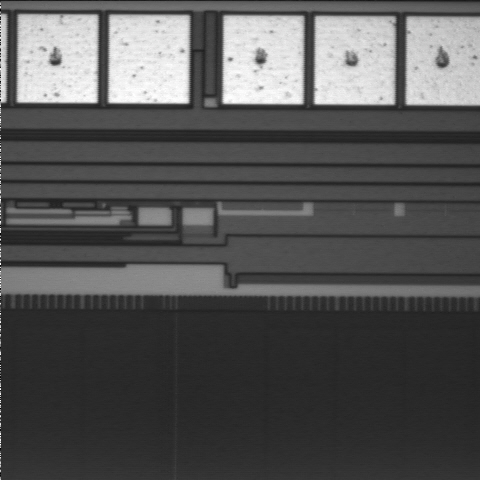pad: (17, 15, 98, 103), (223, 16, 304, 104), (109, 15, 189, 104), (315, 16, 395, 105)
